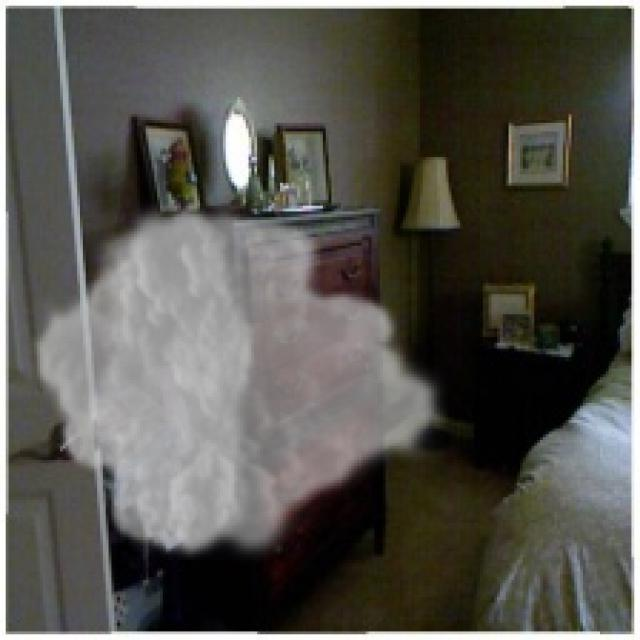smoke: (29, 197, 448, 566)
